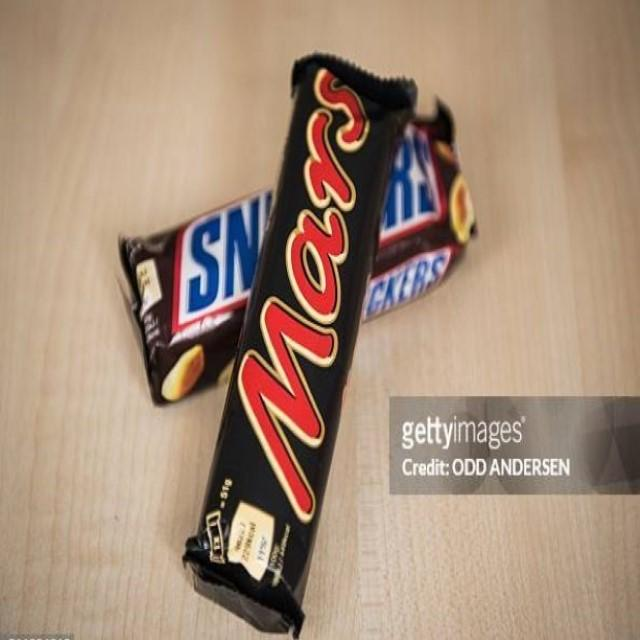mars_chocolate: (177, 73, 422, 623)
snickers_chocolate: (127, 102, 493, 405)
